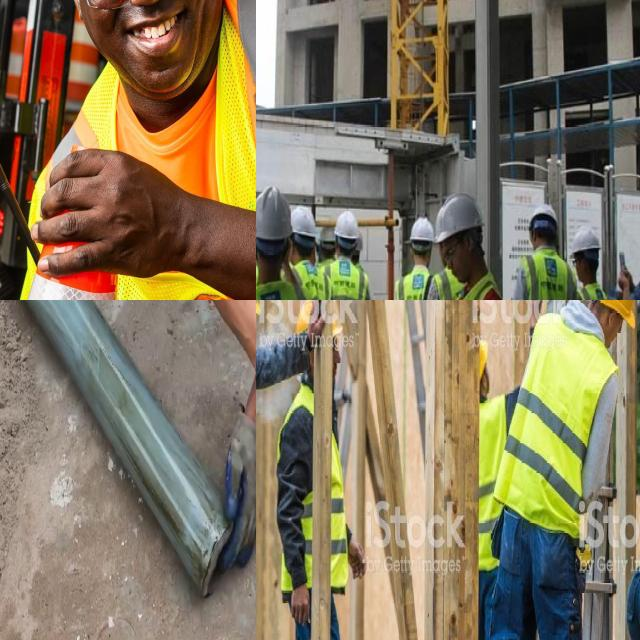face_nomask: (63, 0, 207, 80)
hand_glove: (222, 409, 256, 572)
hand_noglove: (32, 142, 191, 300), (287, 578, 312, 633), (347, 534, 369, 584), (615, 266, 637, 299)
head_helmet: (430, 191, 486, 244), (256, 185, 292, 244), (588, 300, 640, 324), (528, 203, 560, 238), (569, 225, 603, 256), (296, 300, 331, 328), (334, 209, 361, 243), (408, 216, 437, 243), (291, 208, 317, 235), (478, 340, 490, 383)
person: (4, 0, 256, 300), (529, 300, 635, 640), (276, 300, 355, 640), (427, 193, 510, 300), (473, 342, 505, 616), (256, 182, 313, 300), (513, 199, 573, 300), (324, 209, 375, 300), (291, 190, 332, 300), (394, 208, 441, 300), (566, 226, 609, 300)
vest: (19, 0, 256, 300), (278, 391, 351, 589), (528, 322, 595, 528), (478, 399, 499, 564), (524, 249, 576, 300), (323, 253, 372, 300), (294, 257, 329, 300), (396, 263, 435, 300), (428, 269, 460, 300)
